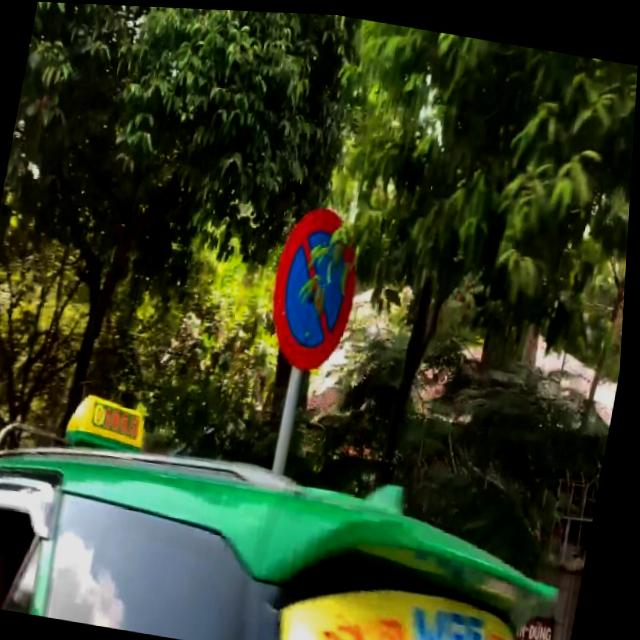Cam do xe: (263, 199, 372, 376)
